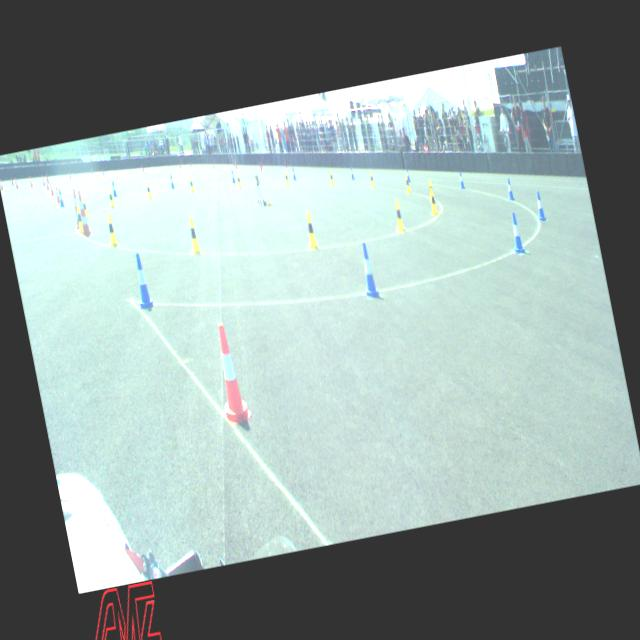blue_cone: (129, 252, 154, 310), (357, 242, 380, 300), (507, 212, 525, 254), (533, 190, 547, 222), (505, 178, 515, 200), (458, 170, 466, 190), (58, 188, 64, 206), (111, 182, 118, 196), (349, 166, 355, 180), (230, 170, 236, 183), (291, 167, 296, 180), (406, 166, 410, 182), (170, 175, 174, 188)
large_orange_cone: (76, 190, 92, 236), (69, 188, 83, 229)
orange_cone: (206, 320, 252, 424), (55, 187, 60, 203), (14, 178, 20, 189), (29, 176, 34, 187), (50, 182, 54, 195), (41, 176, 46, 186), (0, 179, 4, 190), (45, 179, 49, 190)
unknown_cone: (46, 174, 50, 184), (11, 177, 14, 186), (141, 163, 144, 172), (212, 162, 215, 170)
yellow_cone: (303, 211, 318, 248), (186, 216, 201, 253), (105, 213, 118, 246), (392, 200, 404, 231), (74, 205, 84, 232), (428, 190, 438, 214), (82, 196, 90, 220), (428, 180, 436, 202), (108, 188, 116, 208), (404, 175, 411, 192), (188, 176, 195, 192), (284, 170, 290, 186), (146, 182, 152, 198), (328, 170, 334, 185), (368, 172, 374, 186), (236, 174, 242, 188)
